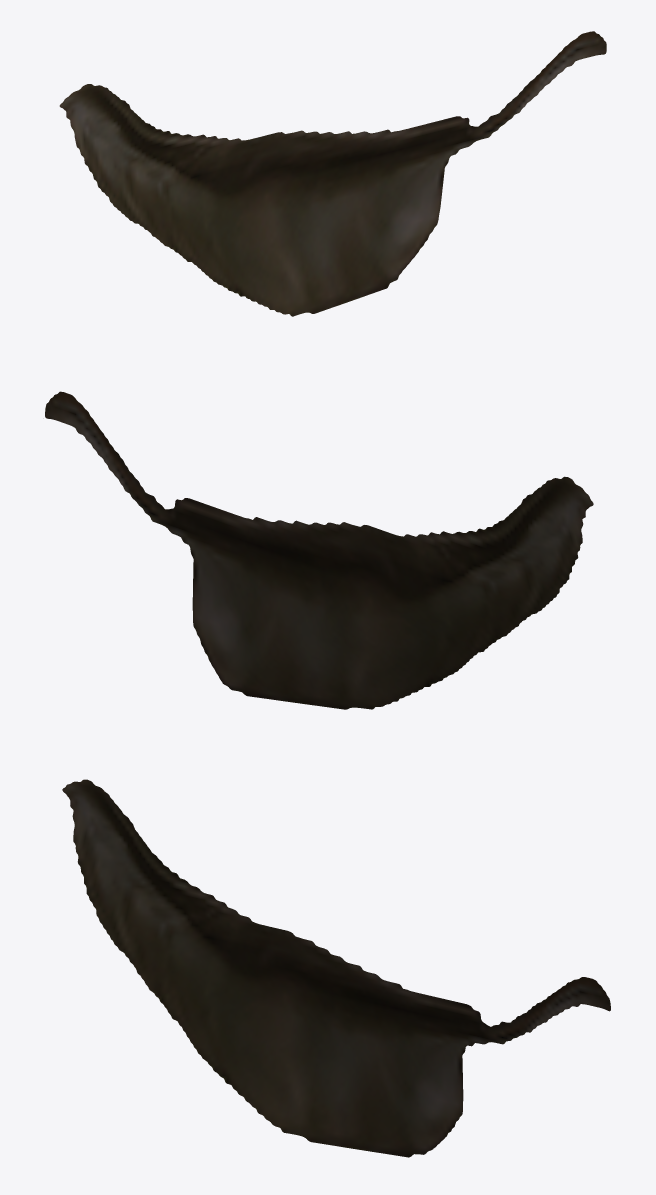
File: TI_Old_Foliage_04.fbx
The picture shows the model from 3 angles, top to bottom: view 1: azimuth 30°, elevation 25°; view 2: azimuth 150°, elevation 25°; view 3: azimuth 330°, elevation 25°; orthographic projection. The views are drawn at different scales.
Parts seen in each view (by area): view 1: TI_Old_Foliage_04; view 2: TI_Old_Foliage_04; view 3: TI_Old_Foliage_04.
Part boxes in pixels (<box>): TI_Old_Foliage_04: <box>59,31,606,316</box>; TI_Old_Foliage_04: <box>45,391,593,709</box>; TI_Old_Foliage_04: <box>62,779,610,1157</box>.
Bounding box in the file's own units: 0.3062 × 0.1436 × 0.0203.
